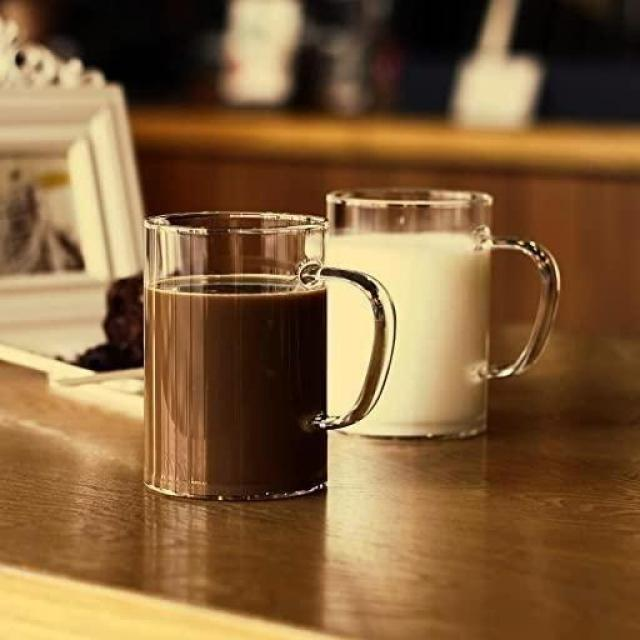glass-mug: (132, 203, 402, 508), (318, 175, 566, 449)
